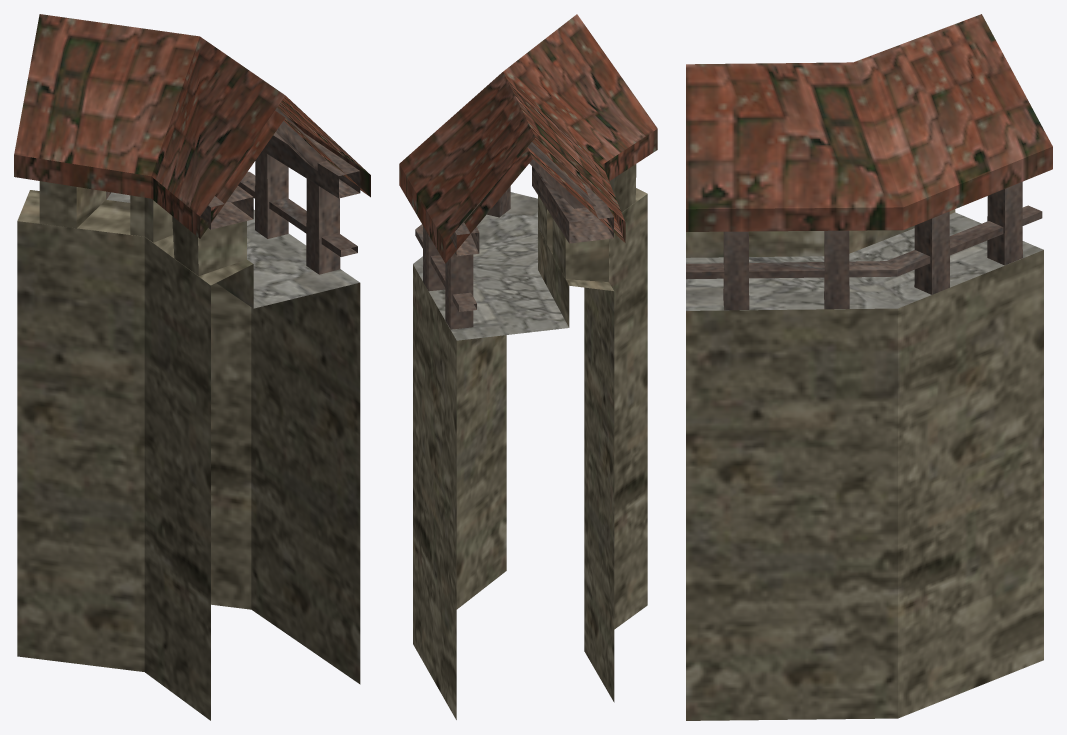
The model's file is Roofed_Wall_Corner.fbx.
3 renders of one model, left to right at view 1: azimuth 30°, elevation 25°; view 2: azimuth 150°, elevation 25°; view 3: azimuth 270°, elevation 25°, orthographic. The views are drawn at different scales.
Visible parts, largest first — view 1: Wall_R_Corner_45_Out; view 2: Wall_R_Corner_45_Out; view 3: Wall_R_Corner_45_Out.
Boxes of the visible parts, <box> form: Wall_R_Corner_45_Out: <box>14,14,370,720</box>; Wall_R_Corner_45_Out: <box>399,14,657,719</box>; Wall_R_Corner_45_Out: <box>686,14,1052,720</box>.
Size of the model in its own units: 578 by 1361 by 730.
